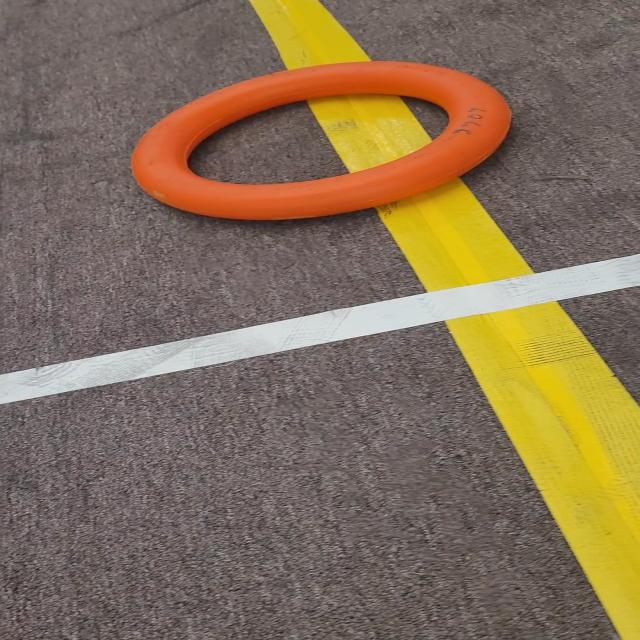note: (111, 54, 547, 235)
